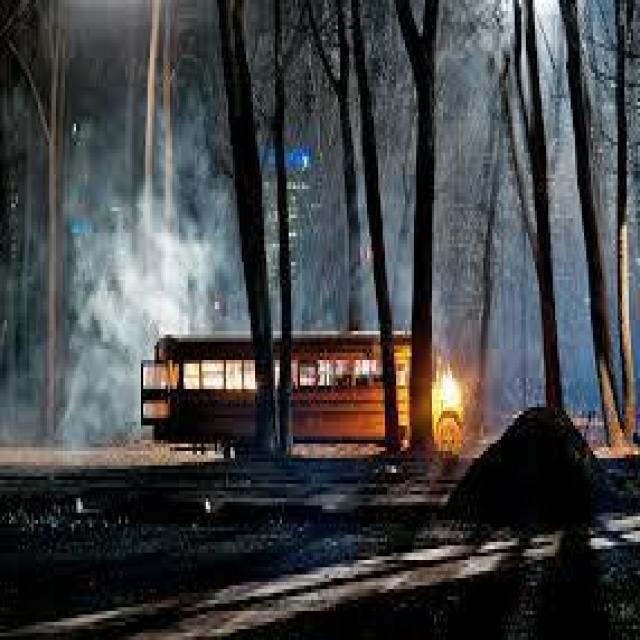smoke: (73, 202, 184, 442)
